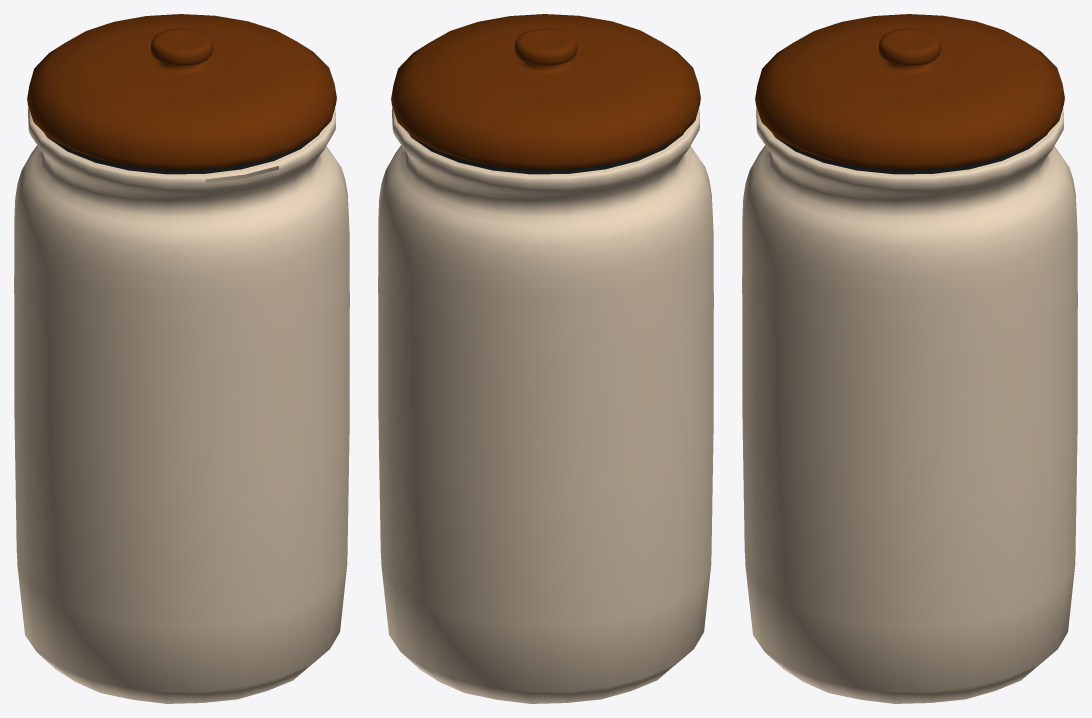
The model's file is JarLarge_Final.fbx.
3 views of the same model, side by side, from view 1: azimuth 30°, elevation 25°; view 2: azimuth 150°, elevation 25°; view 3: azimuth 270°, elevation 25° (orthographic).
Visible parts, largest first — view 1: Jar_.001; view 2: Jar_.001; view 3: Jar_.001.
Part boxes in pixels (x1=…): Jar_.001: x1=14, y1=14, x2=349, y2=703; Jar_.001: x1=378, y1=14, x2=713, y2=703; Jar_.001: x1=742, y1=14, x2=1077, y2=703.
Size of the model in its own units: 119 by 240 by 119.
